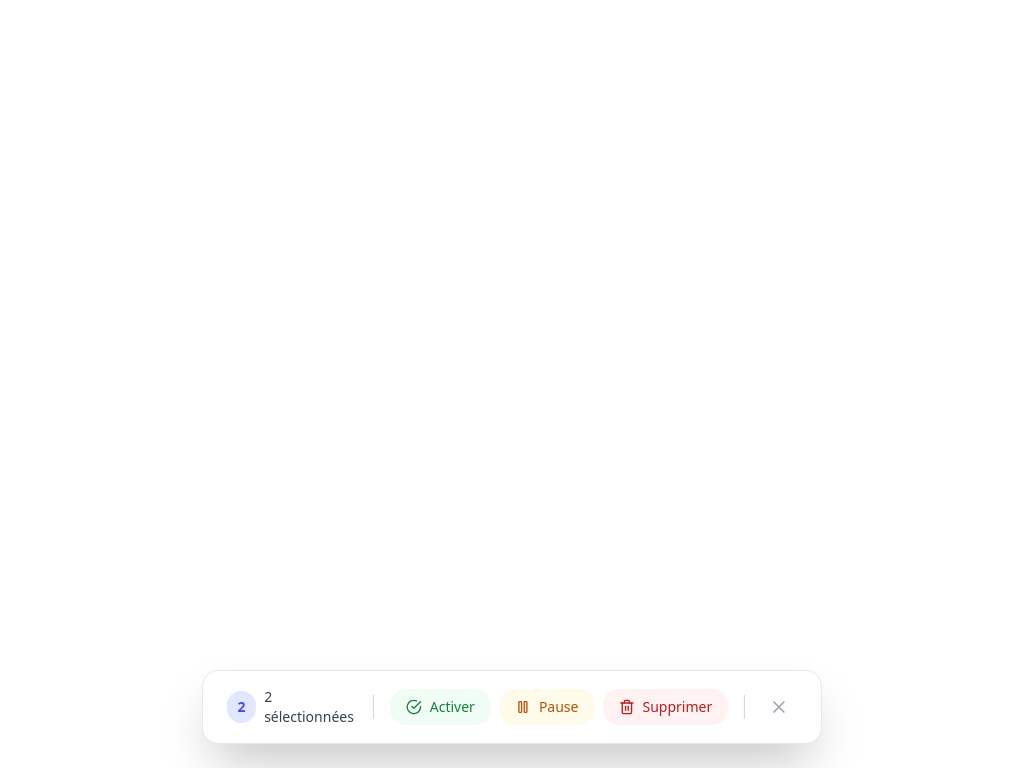
Scenario: RecurringInvoiceBulkActions › Delete Confirmation › should close dialog when cancel is clicked
Click the button "Supprimer". click: coordinates (665, 707)
box: 602,689 -> 728,725
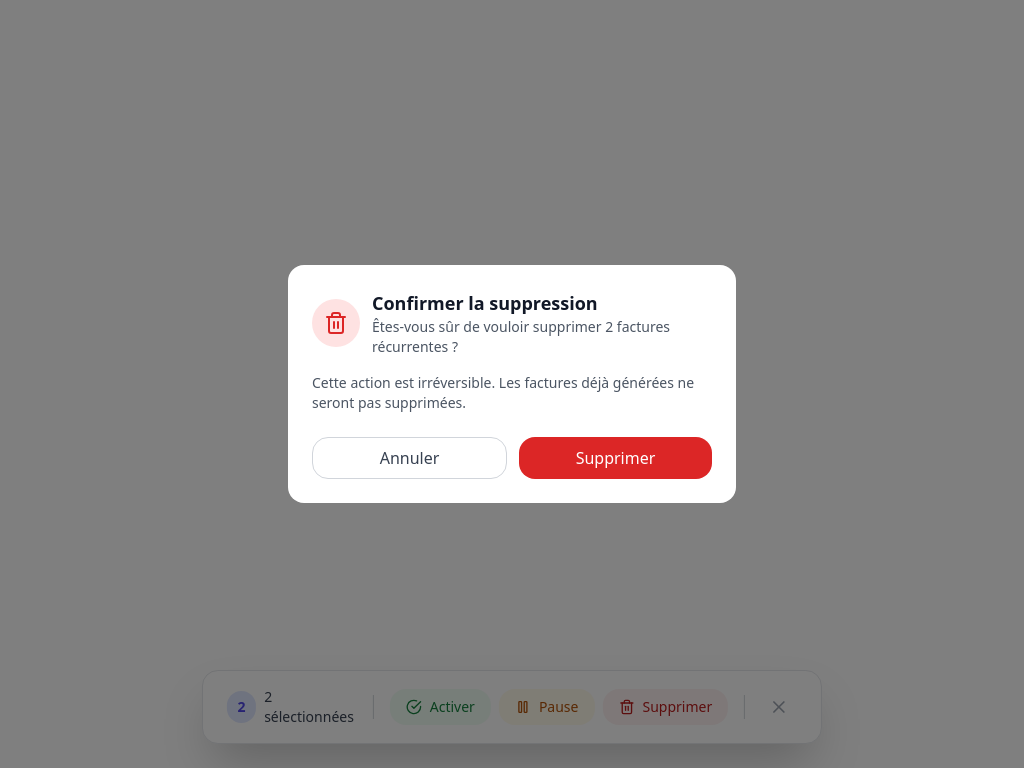
Click the button "Annuler". click: coordinates (410, 458)
box: 312,437 -> 507,479
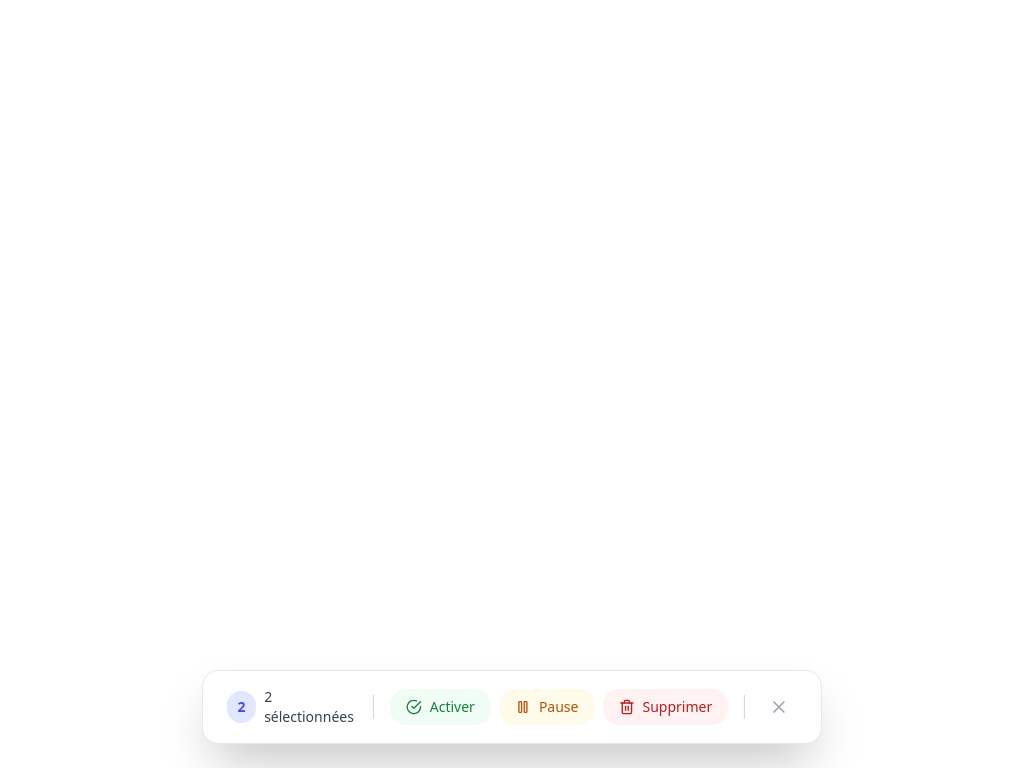
Expected: the heading "Confirmer la suppression" is gone
